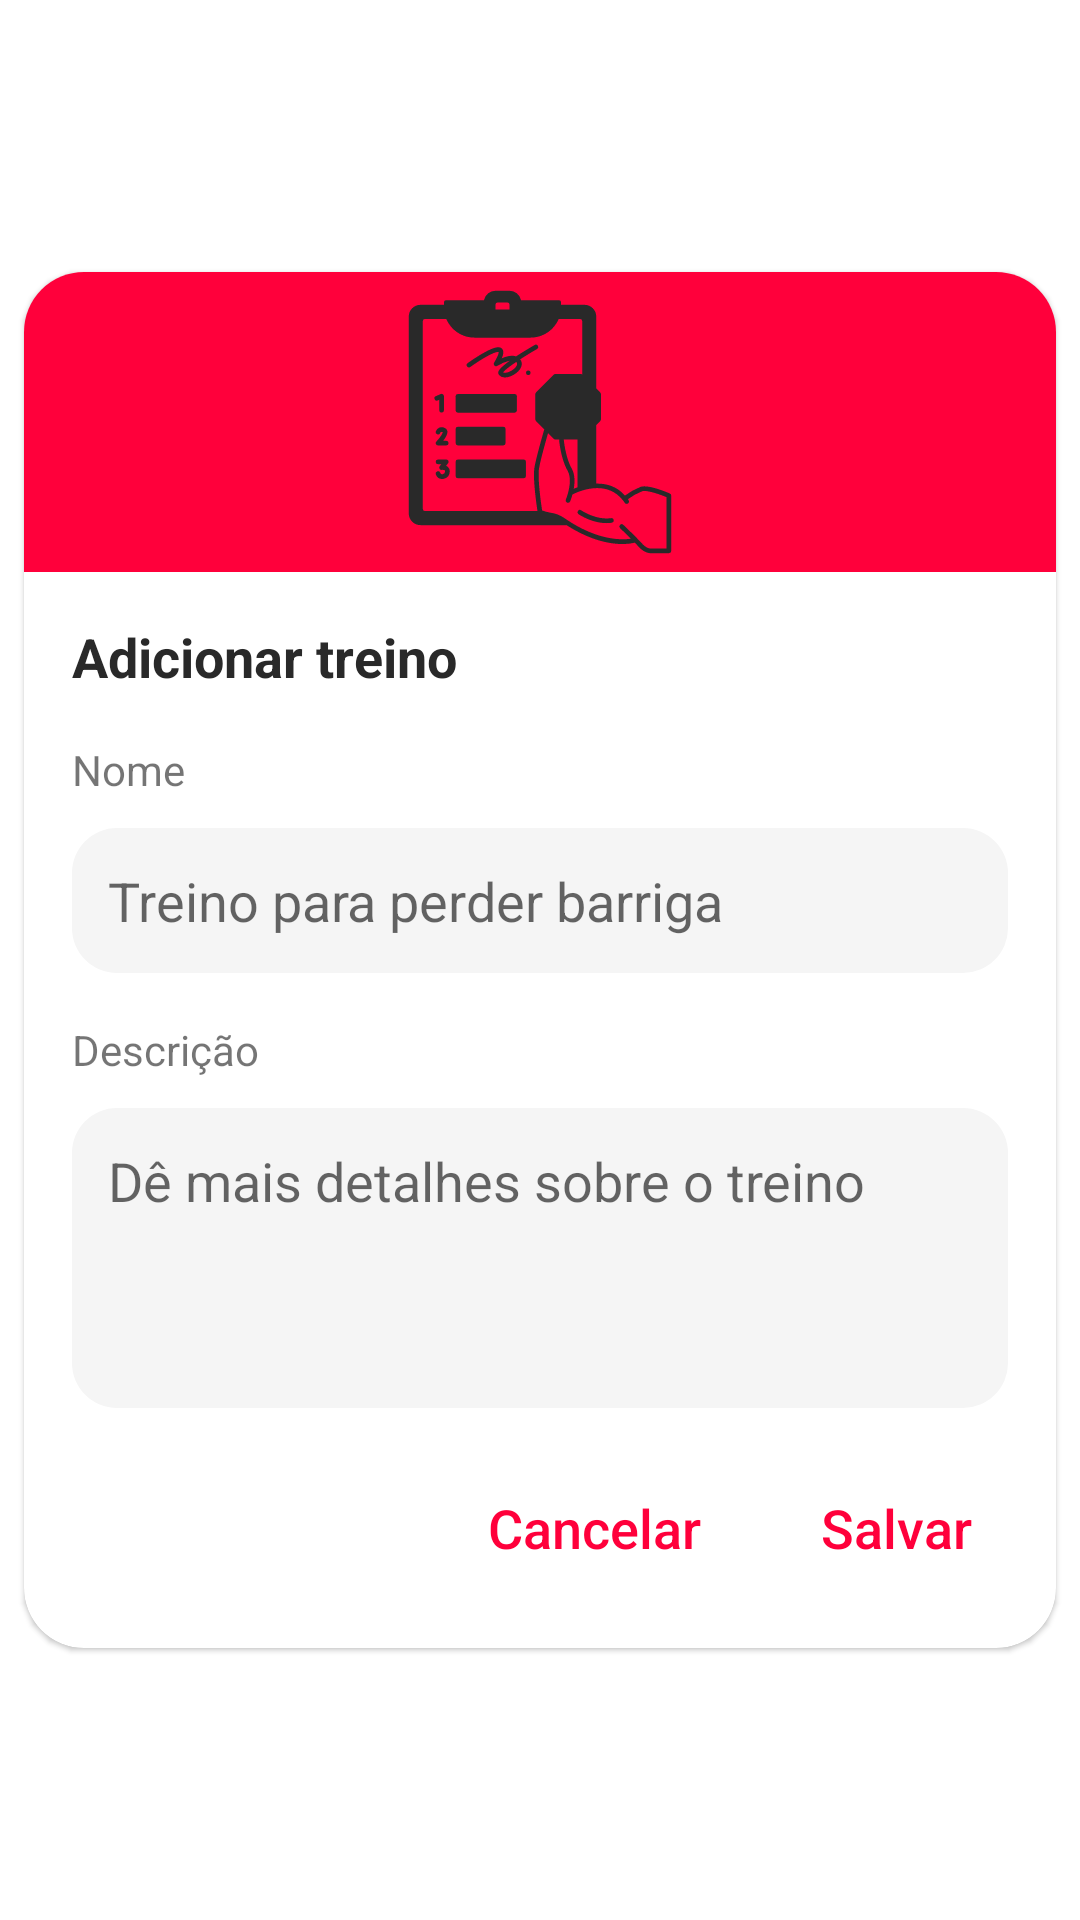

Point at icon controls on the screen. Image size 1080 × 1920, points as point (x, y).
add workout: point (540, 422)
